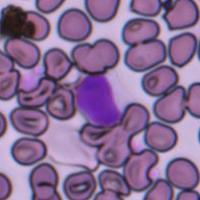L: (74, 73, 127, 127)
